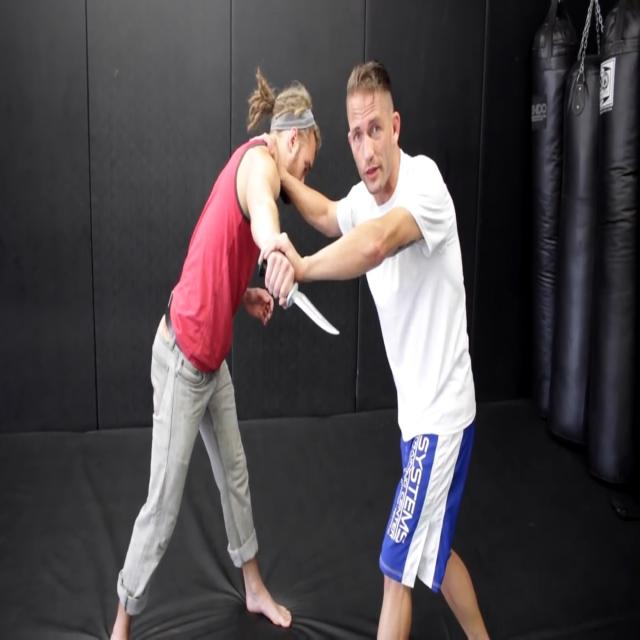knife: (289, 274, 343, 344)
